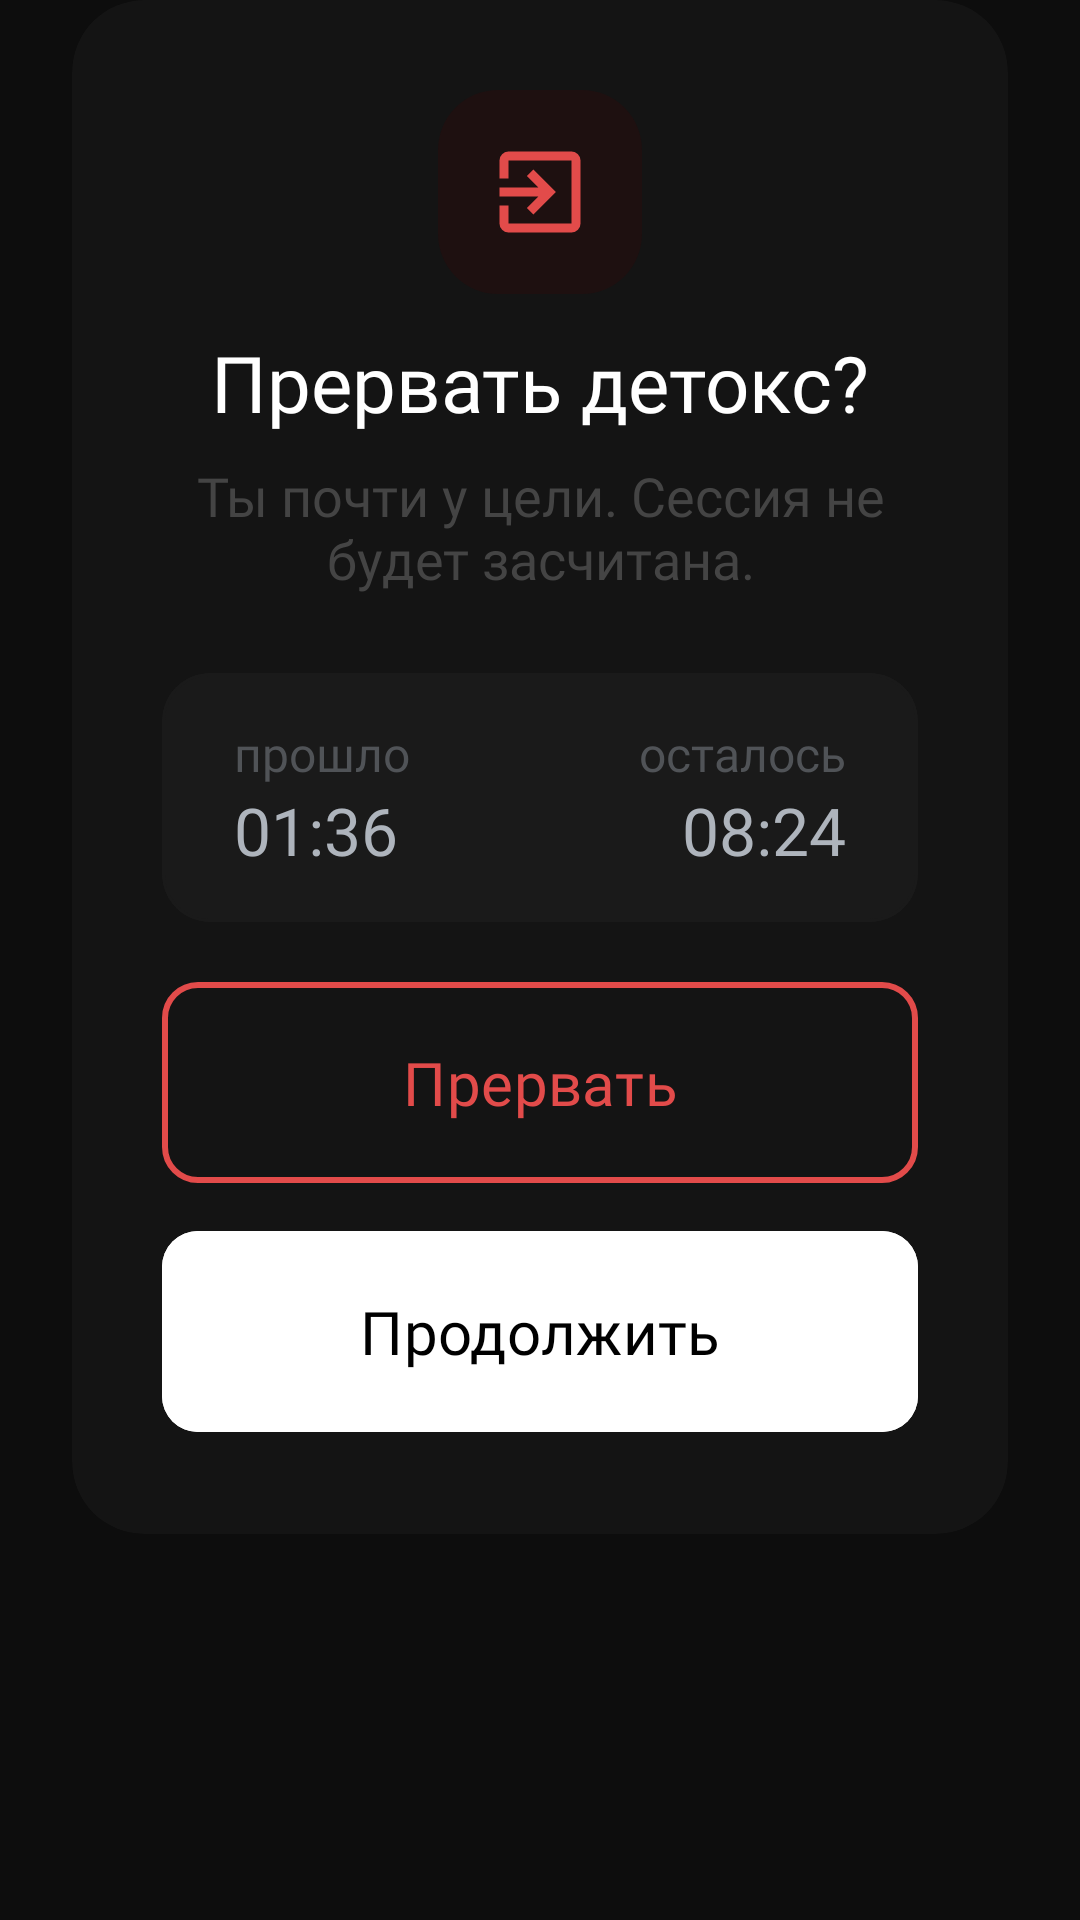

Icon click points for this 1080px x 1920px phone screenshot, format (x,y):
leave: (540,192)
